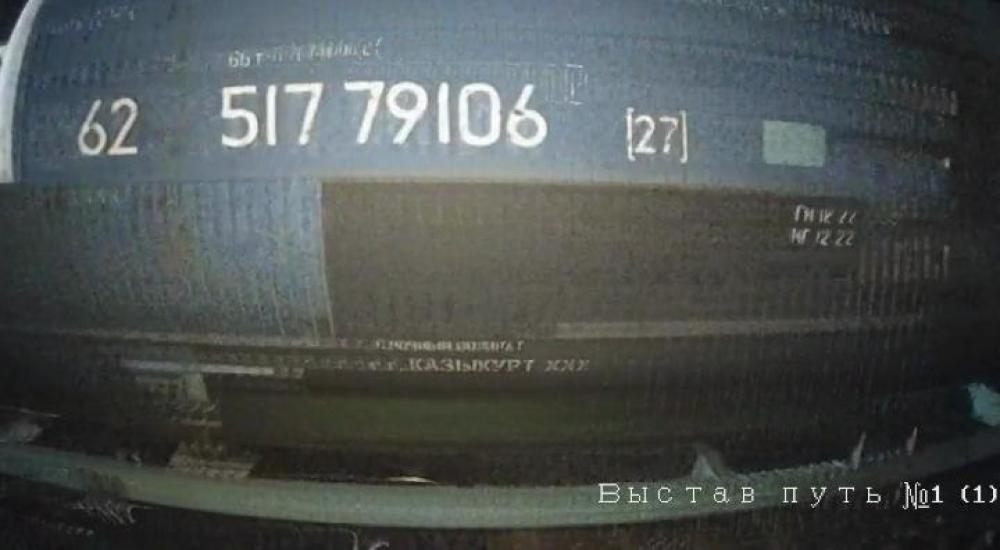Wagon-number: (212, 74, 552, 154)
